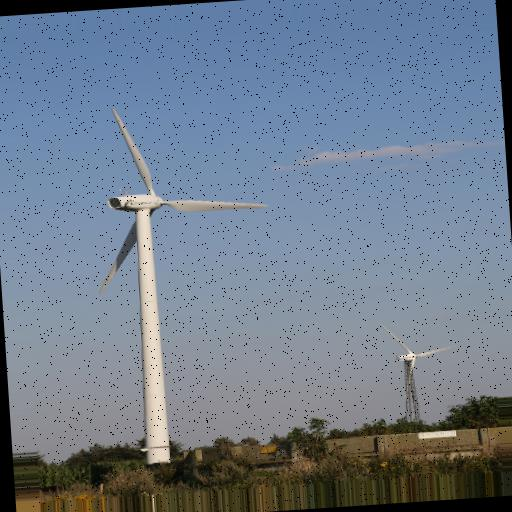wind turbine: (98, 106, 271, 457), (381, 324, 457, 429)
